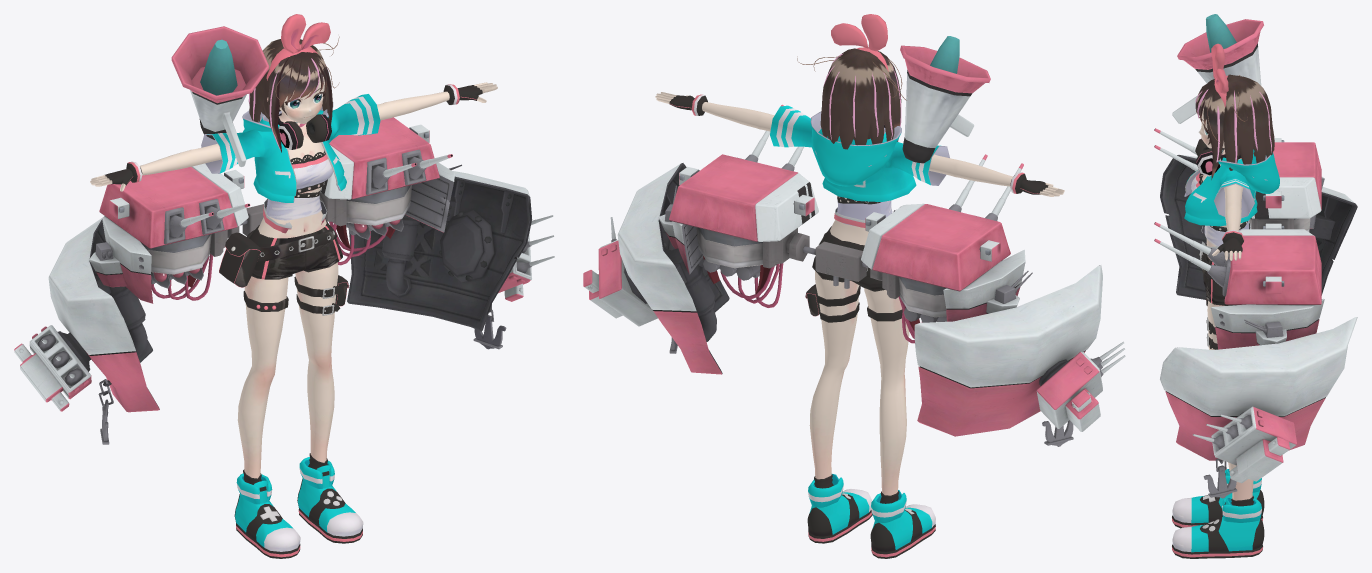
File: kizuna_ai.glb
3 renders of one model, left to right at view 1: azimuth 30°, elevation 25°; view 2: azimuth 150°, elevation 25°; view 3: azimuth 270°, elevation 25°, orthographic. The views are drawn at different scales.
Parts seen in each view (by area): view 1: Object_374; view 2: Object_374; view 3: Object_374.
Part boxes in pixels (left/top/right/bottom): Object_374: left=14, top=14, right=554, bottom=558; Object_374: left=583, top=14, right=1125, bottom=558; Object_374: left=1154, top=14, right=1357, bottom=558.
Bounding box in the file's own units: 41.98 × 40.65 × 15.29.
Materials: 3 (3 with a texture image).
